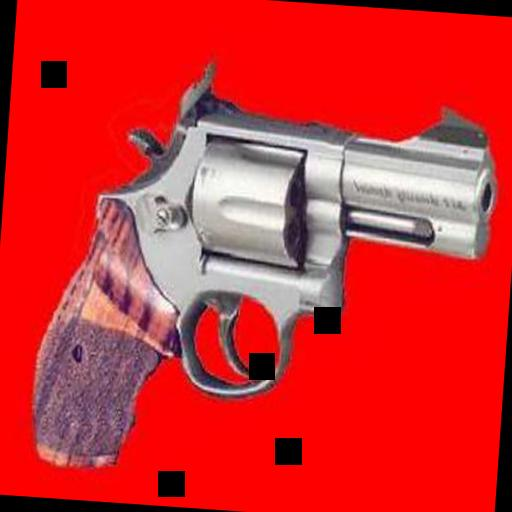Handgun: (22, 79, 500, 499)
